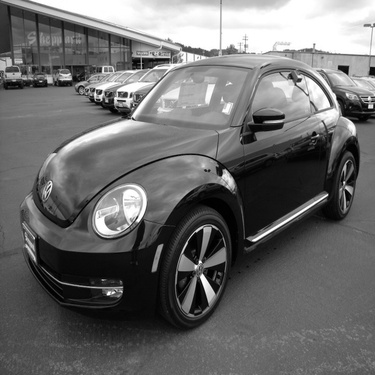car: (15, 45, 366, 331), (112, 64, 189, 113), (310, 66, 372, 118), (98, 67, 134, 104), (107, 69, 145, 104), (75, 68, 110, 92), (2, 57, 24, 90), (93, 72, 116, 96), (352, 74, 371, 98), (51, 66, 72, 87), (33, 69, 48, 88)
